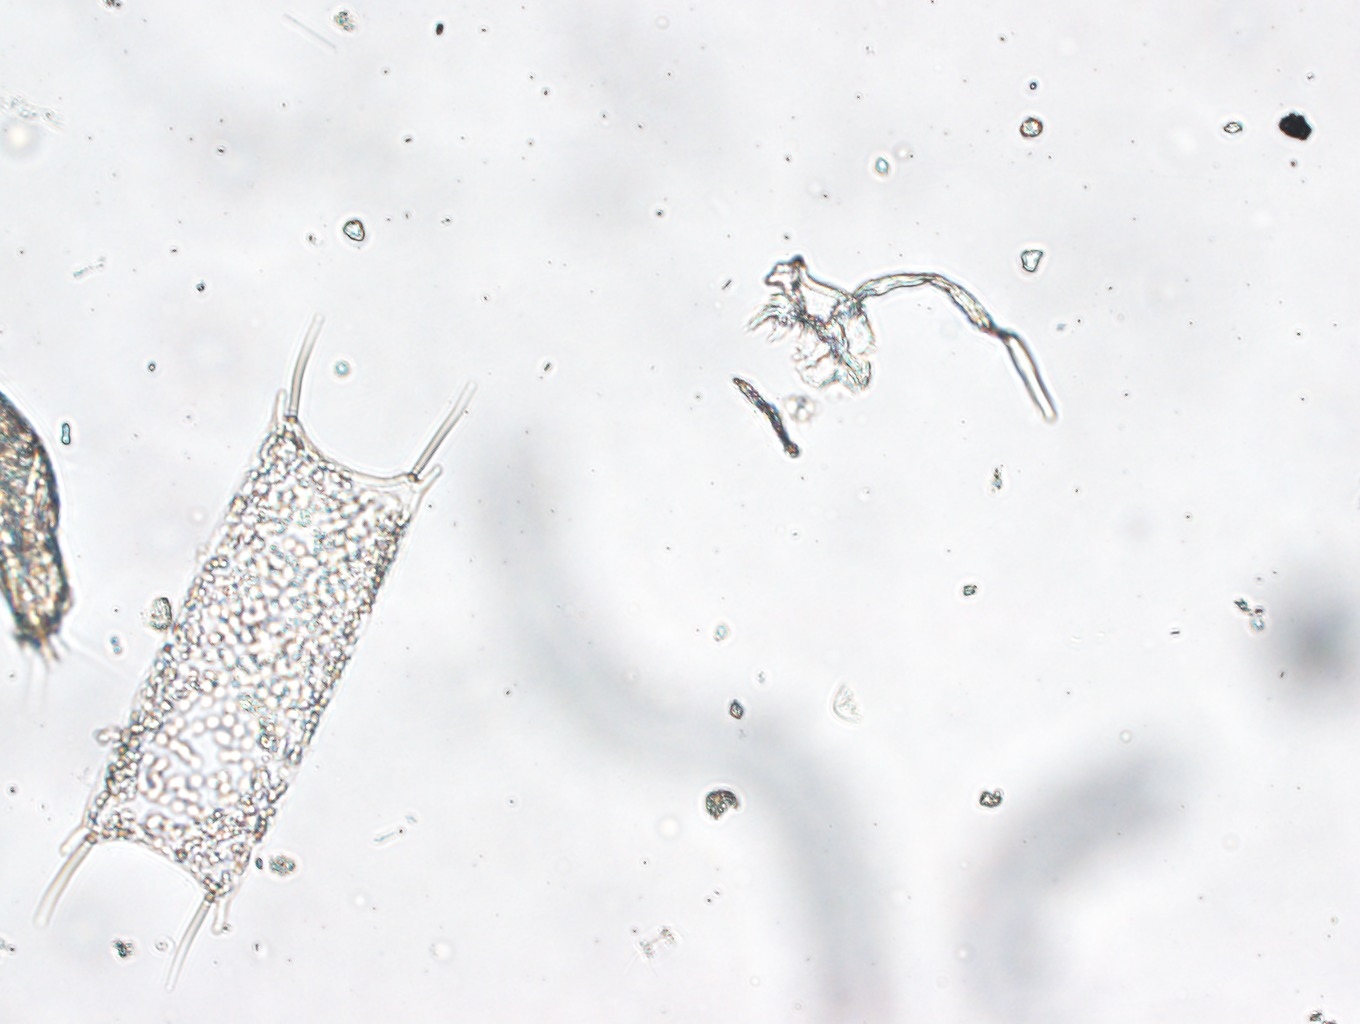biddulphia: (18, 312, 473, 996)
